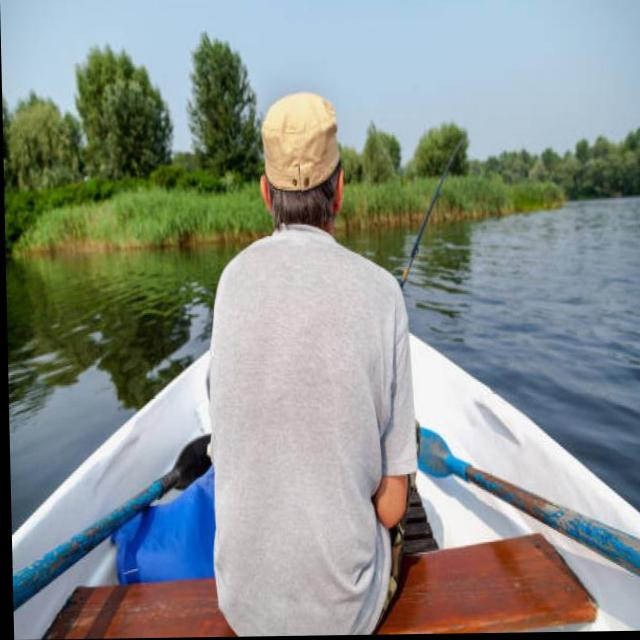no helmet: (256, 66, 347, 231)
